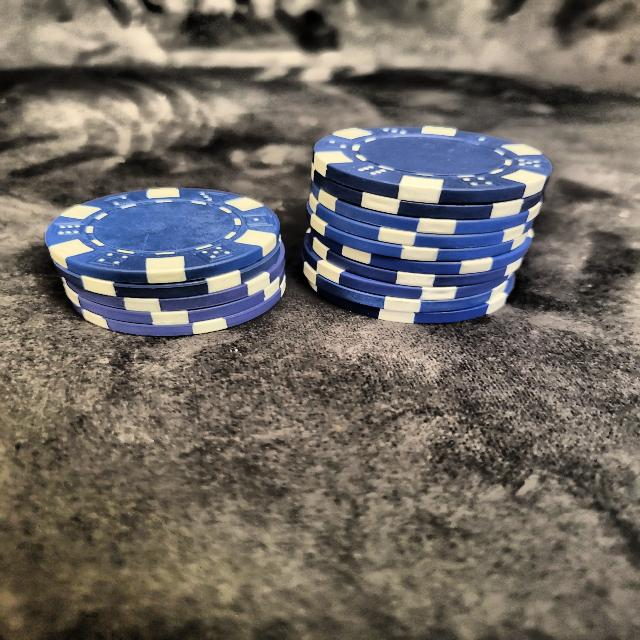Chip: (302, 108, 552, 340), (44, 167, 300, 343)
